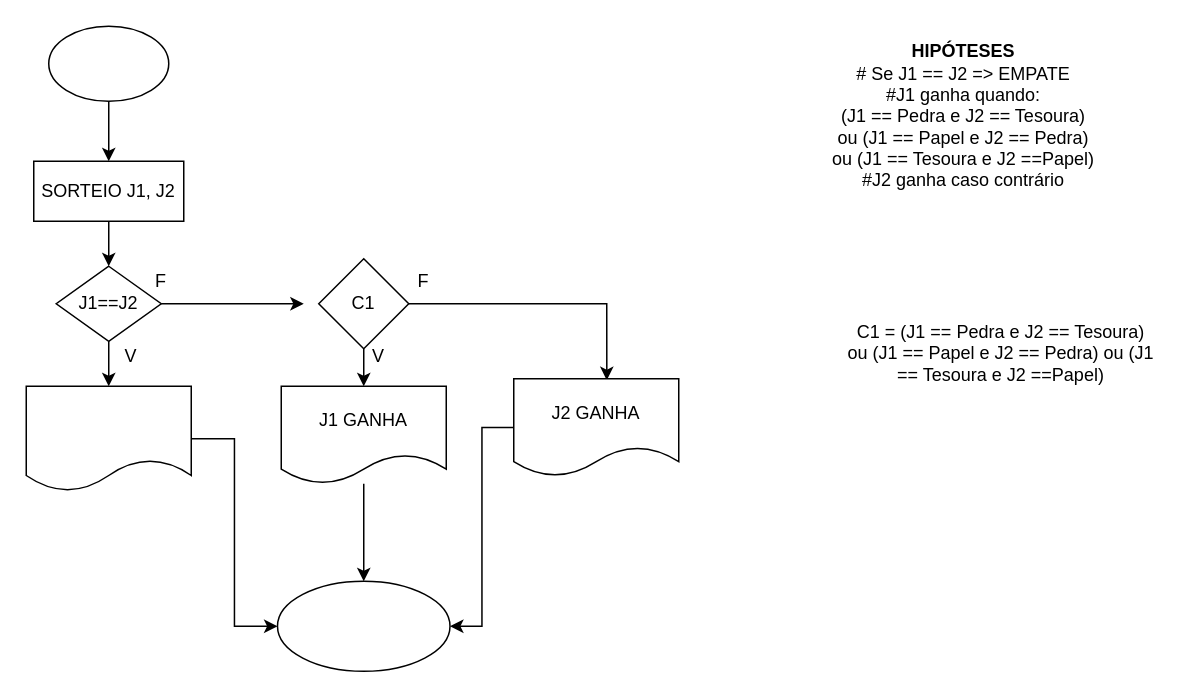
Some shapes in this 1185 by 698 pixel diagram are drawn without their labels. Here are the shapes that lost their labels. From the top down, the centre of each, then its label:
pixel 108 63: INÍCIO
pixel 108 438: EMPATE
pixel 363 625: FIM
